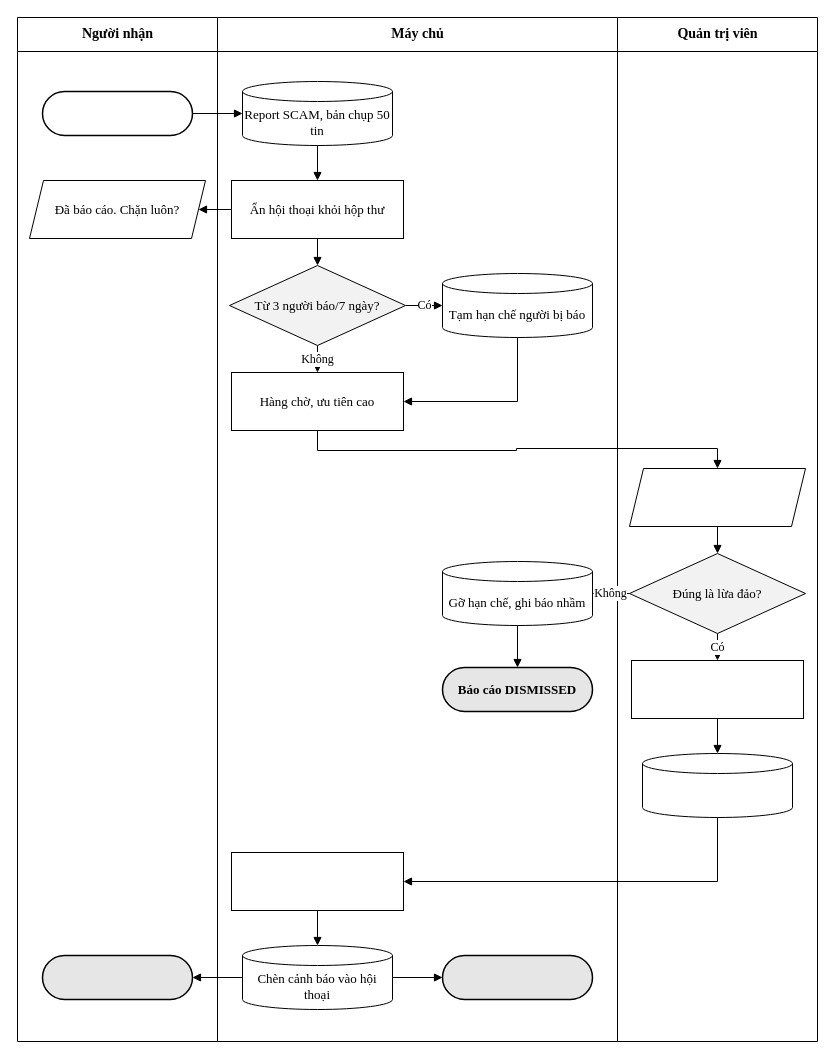
Some shapes in this 835 by 1059 pixel diagram are drawn without their labels. The shapes that lost their labels are listed below. From the top down, each one's box as (x1, y1, x2, y2) in pixels, then its label:
(41, 90, 193, 136): Bấm Báo cáo lừa đảo
(628, 468, 806, 526): Xem bản chụp, link, lịch sử
(630, 660, 804, 718): Khóa tài khoản, chặn tên miền
(642, 752, 792, 818): Lưu BlockedDomain, nhật ký
(230, 852, 404, 910): Tìm người khác đã nhận tin
(41, 954, 193, 1000): Người nhận khác được cảnh báo
(441, 954, 593, 1000): Báo người báo cáo: đã xử lý
